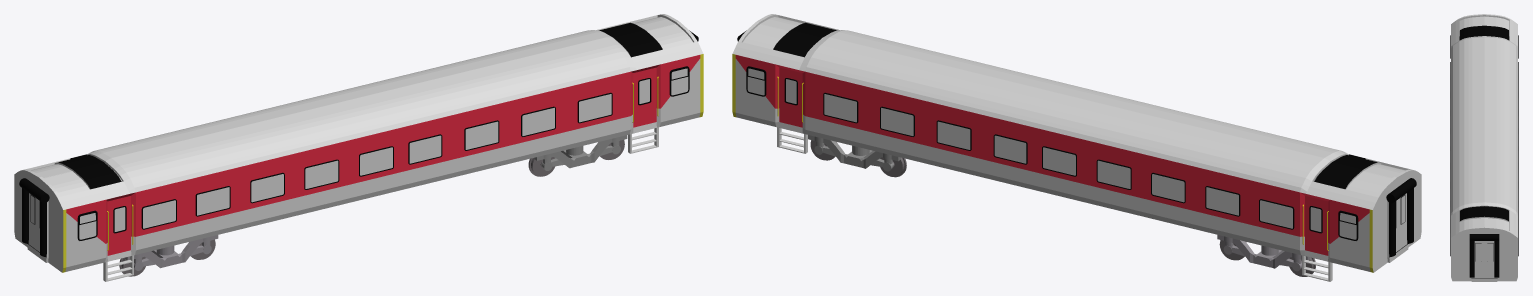
The model's file is coach.glb.
The picture shows the model from 3 angles, left to right: view 1: azimuth 30°, elevation 25°; view 2: azimuth 150°, elevation 25°; view 3: azimuth 270°, elevation 25°; orthographic projection. The views are drawn at different scales.
Visible parts, largest first — view 1: Body_0, Bogie1_6, Bogie2_5, SidePipe_3; view 2: Body_0, Bogie1_6, Bogie2_5, SidePipe_3; view 3: Body_0, SidePipe_3, UpperPipe_4.
Part boxes in pixels (bbox=[...]): Body_0: bbox=[14, 14, 703, 281]; Bogie1_6: bbox=[528, 135, 627, 176]; Bogie2_5: bbox=[119, 235, 218, 276]; SidePipe_3: bbox=[22, 188, 46, 256]; Body_0: bbox=[732, 14, 1421, 281]; Bogie1_6: bbox=[808, 135, 906, 177]; Bogie2_5: bbox=[1217, 235, 1315, 276]; SidePipe_3: bbox=[1389, 188, 1413, 256]; Body_0: bbox=[1450, 14, 1518, 281]; SidePipe_3: bbox=[1469, 240, 1499, 277]; UpperPipe_4: bbox=[1469, 234, 1499, 240].
Size of the model in its own units: 28.49 by 4.59 by 3.75.
